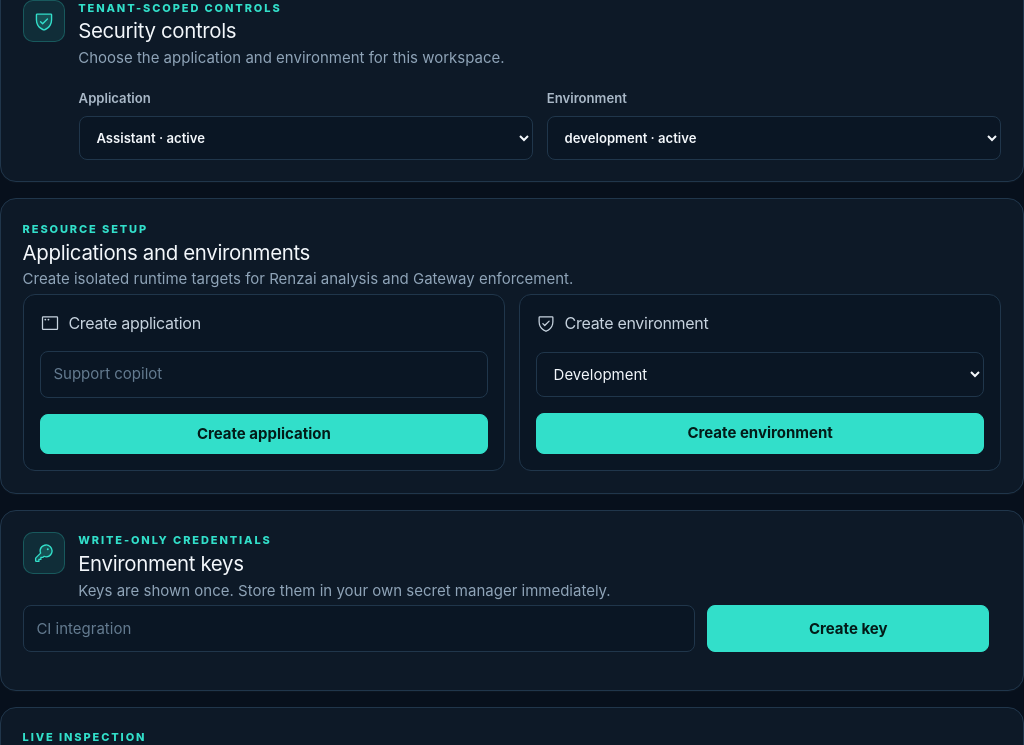
Test case: security console › keeps a one-time key in local component state and removes it on dismissal
The image size is (1024, 745).
Type "CI" into the field named "Key label" at (359, 629), box [23,605,695,652]
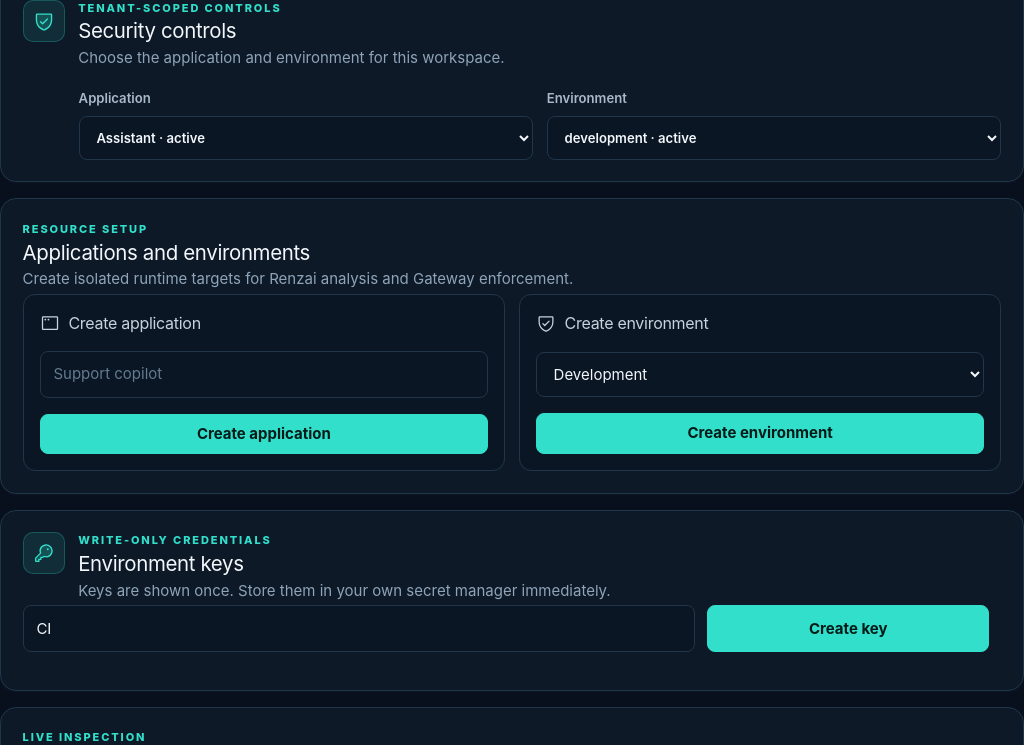
Click the button "Create key" at (848, 629), box [707,605,989,652]
(page scrolled)
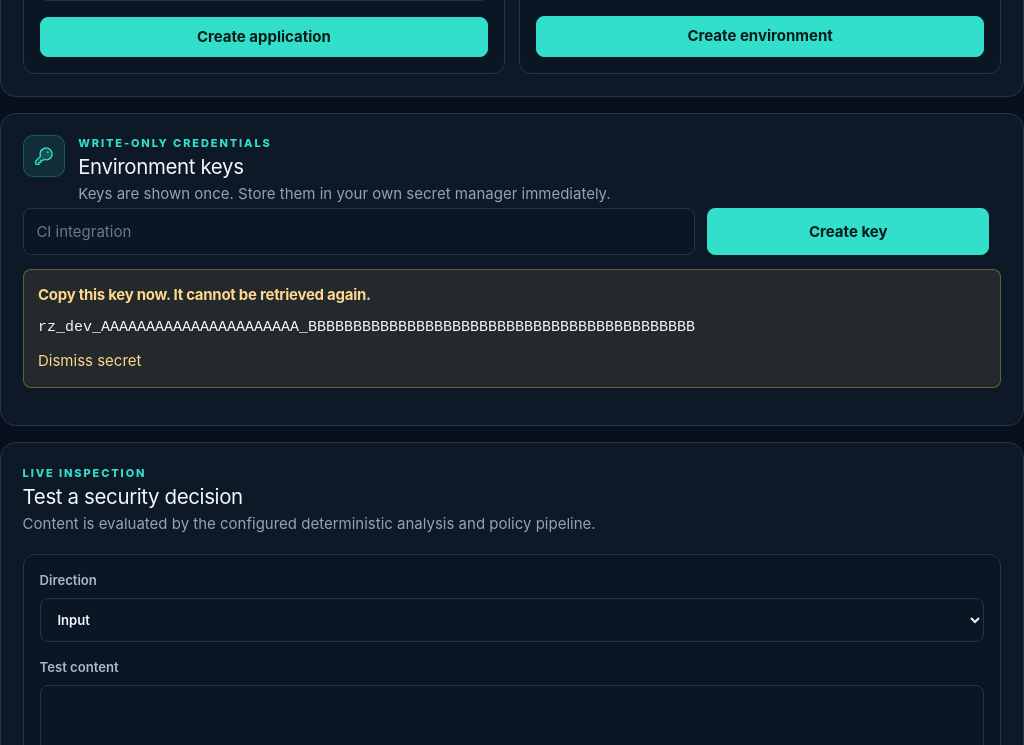
Now the text "rz_dev_AAAAAAAAAAAAAAAAAAAAAA_BBBBBBBBBBBBBBBBBBBBBBBBBBBBBBBBBBBBBBBBBBB" is shown, box [38,319,695,336]
Now the text "Copy this key now. It cannot be retrieved again." is shown, box [38,285,371,304]
Click the button "Dismiss secret" at (90, 361), box [38,350,142,372]
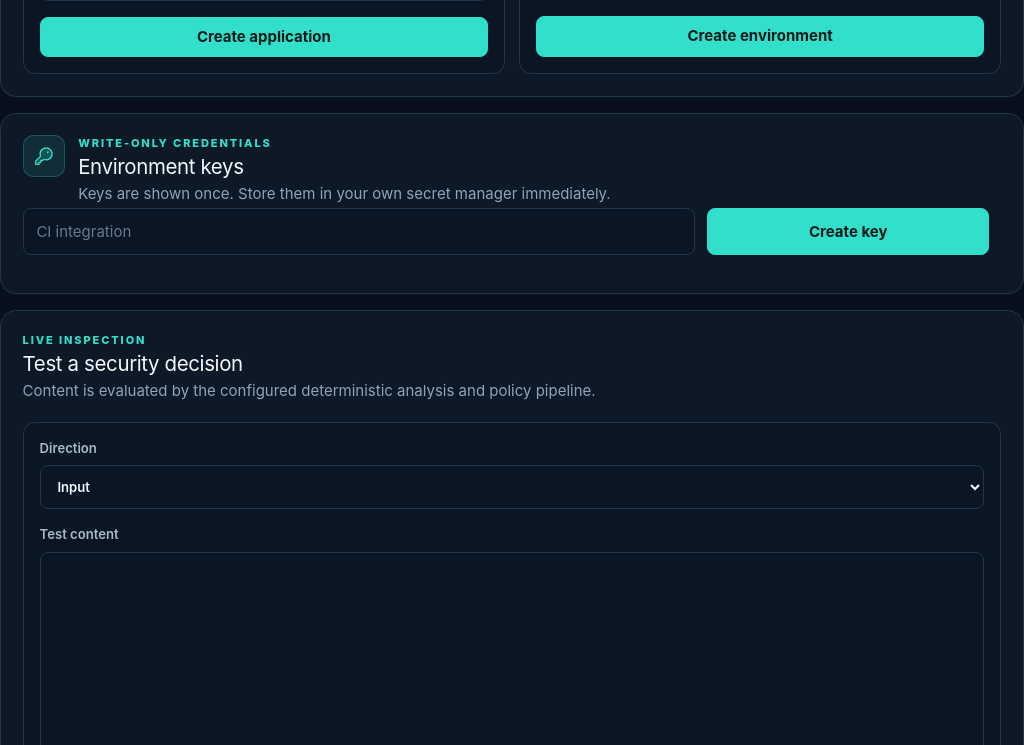
Now the text "rz_dev_AAAAAAAAAAAAAAAAAAAAAA_BBBBBBBBBBBBBBBBBBBBBBBBBBBBBBBBBBBBBBBBBBB" is gone
